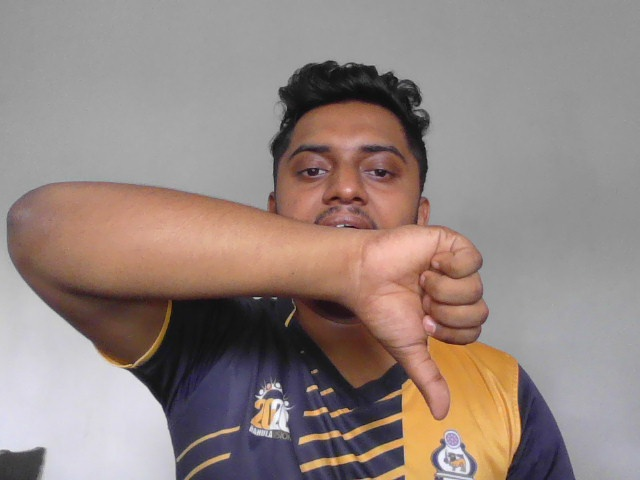Disagree: (364, 224, 489, 422)
